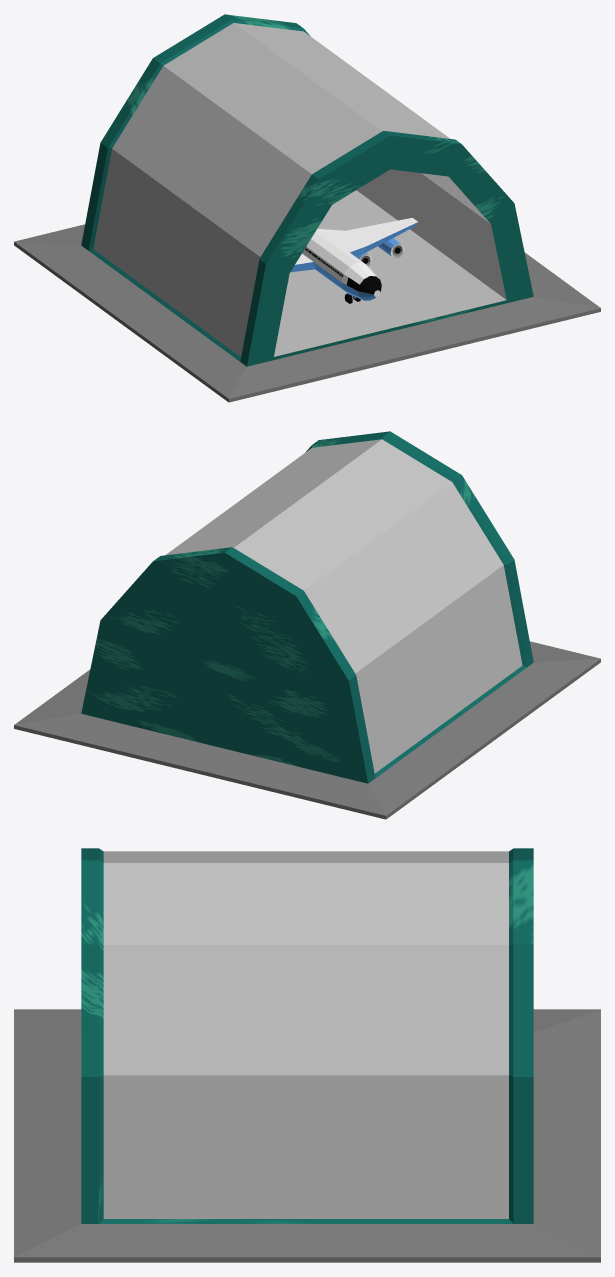
File: planes.fbx
The picture shows the model from 3 angles, top to bottom: view 1: azimuth 30°, elevation 25°; view 2: azimuth 150°, elevation 25°; view 3: azimuth 270°, elevation 25°; orthographic projection. The views are drawn at different scales.
Visible parts, largest first — view 1: Cylinder.002, Cylinder.001; view 2: Cylinder.002; view 3: Cylinder.002.
Part boxes in pixels (x1,y1,x2,y2): Cylinder.002: [14, 14, 600, 402]; Cylinder.001: [287, 217, 417, 303]; Cylinder.002: [14, 431, 600, 819]; Cylinder.002: [14, 848, 600, 1262].
Bounding box in the file's own units: 3986 × 2084 × 3986.
Materials: 1 (1 with a texture image).
